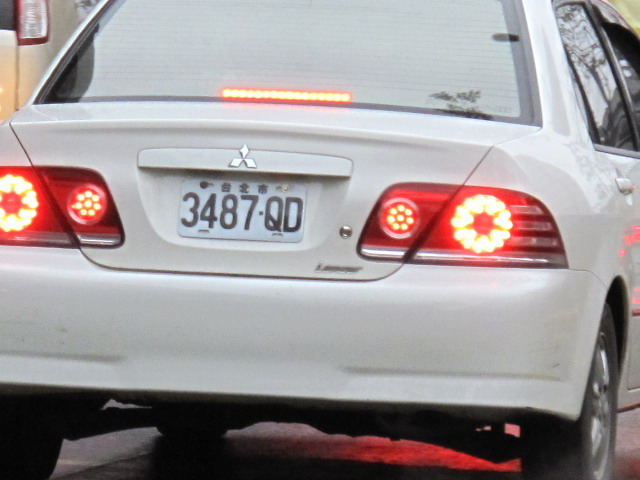plate: (175, 176, 308, 241)
